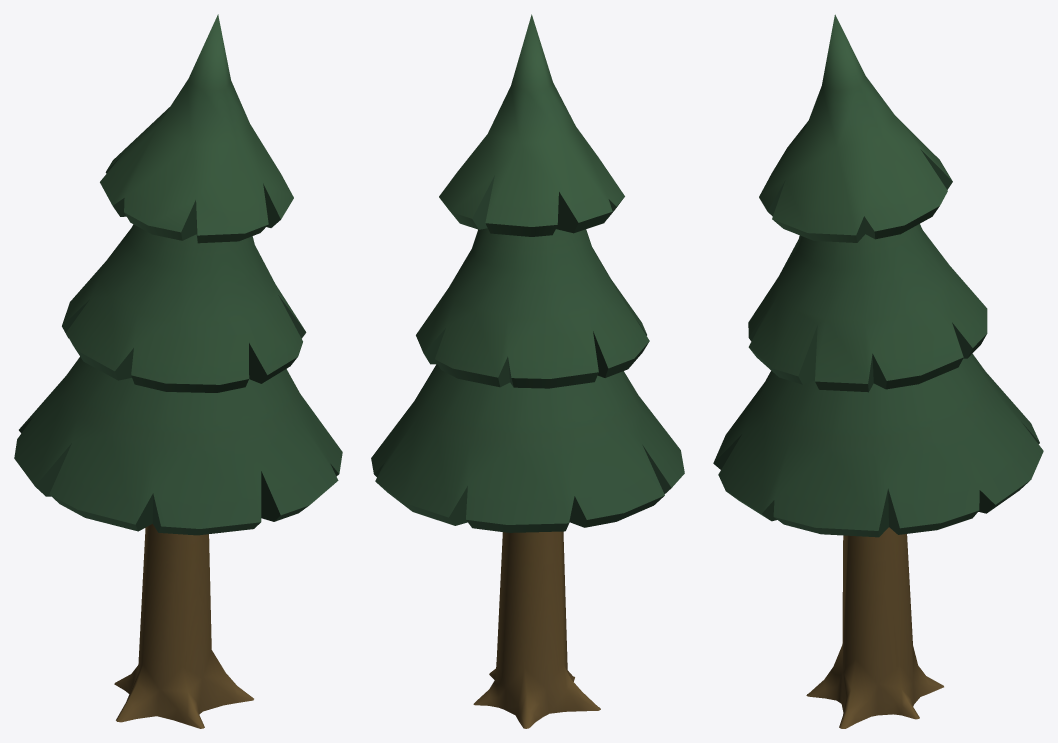
The model's file is SM_Spruce_B.fbx.
3 renders of one model, left to right at view 1: azimuth 30°, elevation 25°; view 2: azimuth 150°, elevation 25°; view 3: azimuth 270°, elevation 25°, orthographic. The views are drawn at different scales.
Parts seen in each view (by area): view 1: SM_Spruce_B; view 2: SM_Spruce_B; view 3: SM_Spruce_B.
Boxes of the visible parts, x1,y1,x2,y2 form: SM_Spruce_B: [14, 14, 342, 728]; SM_Spruce_B: [371, 14, 684, 728]; SM_Spruce_B: [713, 14, 1043, 728].
Bounding box in the file's own units: 328 × 761 × 328.
